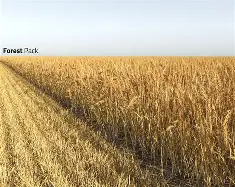crops: (0, 61, 231, 183), (12, 56, 102, 88), (165, 57, 233, 92), (87, 65, 141, 108), (0, 110, 23, 184), (120, 155, 167, 187)
